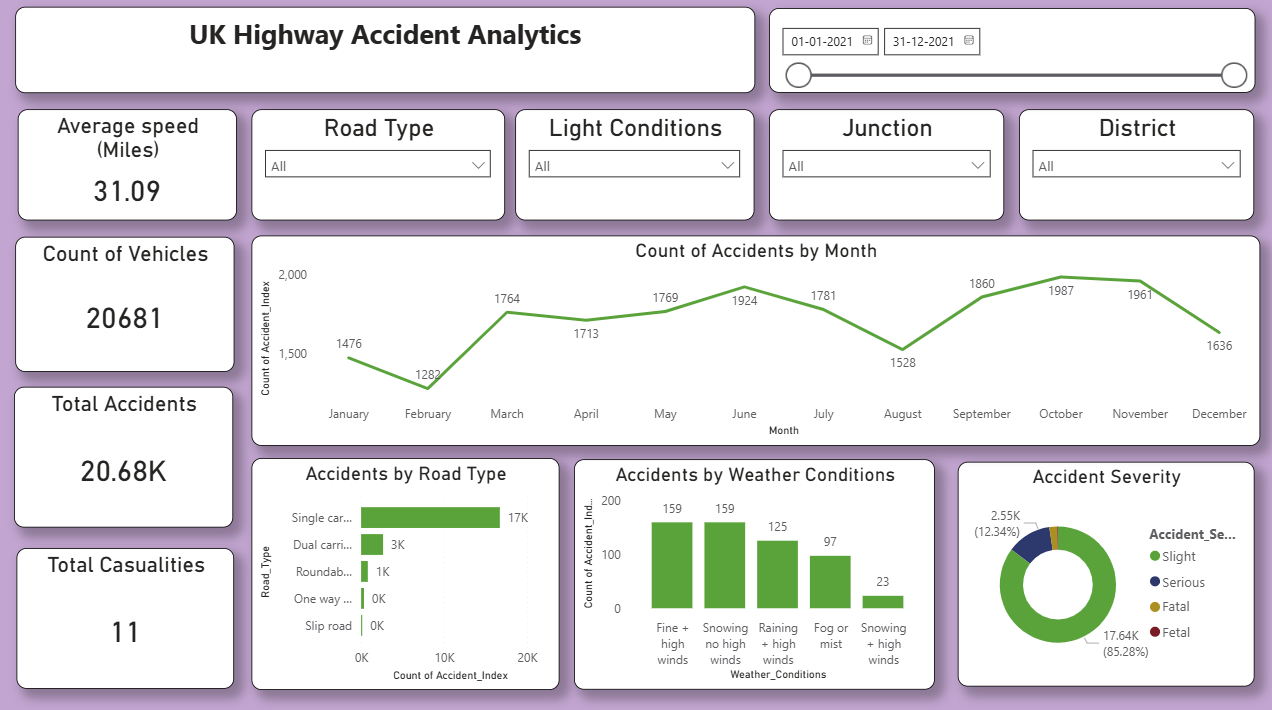

This screenshot's page, from the dashboard's own definition file:
{"tool":"powerbi","page":{"name":"Page 1","canvas":[1280,720],"ordinal":0},"visuals":[{"type":"textbox","box":[16.7,13.3,740,86.7],"z":0},{"type":"card","title":"Average speed (Miles)","fields":{"Values":["Avg(UK_Road_Accidents.Speed_limit)"]},"box":[18.9,116.7,218.9,111.1],"z":1000},{"type":"card","title":"Count of Vehicles","fields":{"Values":["CountNonNull(UK_Road_Accidents.Number_of_Vehicles)"]},"box":[16.7,243.3,218.9,135.6],"z":2000},{"type":"card","title":"Total Accidents","fields":{"Values":["Count(UK_Road_Accidents.Accident_Index)"]},"box":[15.6,393.3,218.9,141.1],"z":3000},{"type":"card","title":"Total Casualities","fields":{"Values":["Count(UK_Road_Accidents.Number_of_Casualties)"]},"box":[17.8,554.4,217.8,141.1],"z":4000},{"type":"slicer","title":"Road Type ","fields":{"Values":["UK_Road_Accidents.Road_Type"]},"box":[252.2,116.7,253.3,111.1],"z":5000},{"type":"slicer","title":"Light Conditions","fields":{"Values":["UK_Road_Accidents.Light_Conditions"]},"box":[516.7,116.7,238.9,111.1],"z":6000},{"type":"slicer","title":"Junction ","fields":{"Values":["UK_Road_Accidents.Junction_Detail"]},"box":[770,116.7,235.6,111.1],"z":7000},{"type":"slicer","title":"District","fields":{"Values":["UK_Road_Accidents.District"]},"box":[1020,116.7,235.6,111.1],"z":8000},{"type":"donutChart","title":" Accident Severity","fields":{"Category":["UK_Road_Accidents.Accident_Severity"],"Y":["CountNonNull(UK_Road_Accidents.Accident_Index)"]},"box":[958.9,468.9,296.7,224.4],"z":9000},{"type":"lineChart","title":"Count of Accidents by Month","fields":{"Y":["CountNonNull(UK_Road_Accidents.Accident_Index)"],"Category":["UK_Road_Accidents.Accident Date.Variation.Date Hierarchy.Month"]},"box":[251.9,243.1,1008.6,210],"z":10000},{"type":"clusteredBarChart","title":"Accidents by Road Type","fields":{"Category":["UK_Road_Accidents.Road_Type"],"Y":["CountNonNull(UK_Road_Accidents.Accident_Index)"]},"box":[252.2,464.4,307.8,232.2],"z":11000},{"type":"clusteredColumnChart","title":" Accidents by Weather Conditions","fields":{"Category":["UK_Road_Accidents.Weather_Conditions"],"Y":["CountNonNull(UK_Road_Accidents.Accident_Index)"]},"box":[575.6,466.7,361.1,230],"z":12000},{"type":"slicer","title":"Timeline","fields":{"Values":["UK_Road_Accidents.Accident Date"]},"box":[770,15,486.7,85],"z":13000}]}

Visuals, with their boxes in screenshot pixels (x1, y1, x2, y2), scaled from the page's 1280x720 canvas onto the 1272x710 screenshot:
textbox: {"left": 17, "top": 13, "right": 752, "bottom": 99}
"Average speed (Miles)" card: {"left": 19, "top": 115, "right": 236, "bottom": 225}
"Count of Vehicles" card: {"left": 17, "top": 240, "right": 234, "bottom": 374}
"Total Accidents" card: {"left": 16, "top": 388, "right": 233, "bottom": 527}
"Total Casualities" card: {"left": 18, "top": 547, "right": 234, "bottom": 686}
"Road Type " slicer: {"left": 251, "top": 115, "right": 502, "bottom": 225}
"Light Conditions" slicer: {"left": 513, "top": 115, "right": 751, "bottom": 225}
"Junction " slicer: {"left": 765, "top": 115, "right": 999, "bottom": 225}
"District" slicer: {"left": 1014, "top": 115, "right": 1248, "bottom": 225}
" Accident Severity" donutChart: {"left": 953, "top": 462, "right": 1248, "bottom": 684}
"Count of Accidents by Month" lineChart: {"left": 250, "top": 240, "right": 1253, "bottom": 447}
"Accidents by Road Type" clusteredBarChart: {"left": 251, "top": 458, "right": 556, "bottom": 687}
" Accidents by Weather Conditions" clusteredColumnChart: {"left": 572, "top": 460, "right": 931, "bottom": 687}
"Timeline" slicer: {"left": 765, "top": 15, "right": 1249, "bottom": 99}
